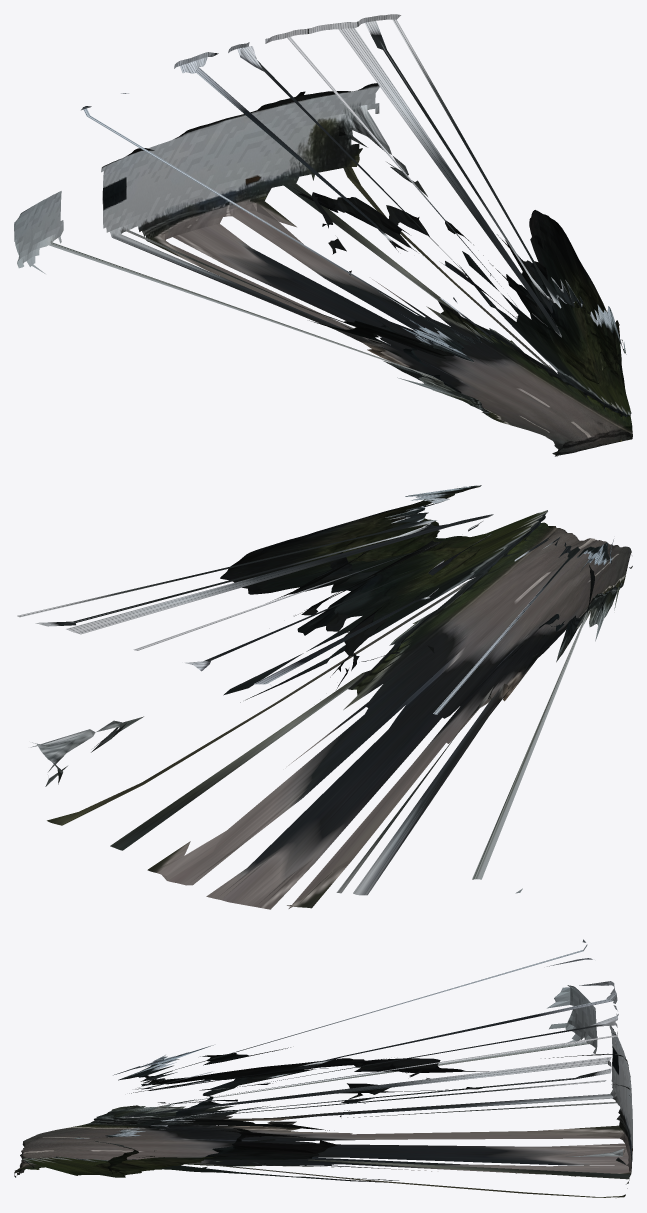
3 views of the same model, one above another, from view 1: azimuth 30°, elevation 25°; view 2: azimuth 150°, elevation 25°; view 3: azimuth 270°, elevation 25° (orthographic). The views are drawn at different scales.
Visible parts, largest first — view 1: defaultobject; view 2: defaultobject; view 3: defaultobject.
Boxes of the visible parts, x1,y1,x2,y2 form: defaultobject: (14, 14, 632, 456); defaultobject: (17, 485, 632, 909); defaultobject: (14, 939, 632, 1197).
Size of the model in its own units: 29.99 by 12.86 by 44.45.
Materials: 1 (1 with a texture image).
